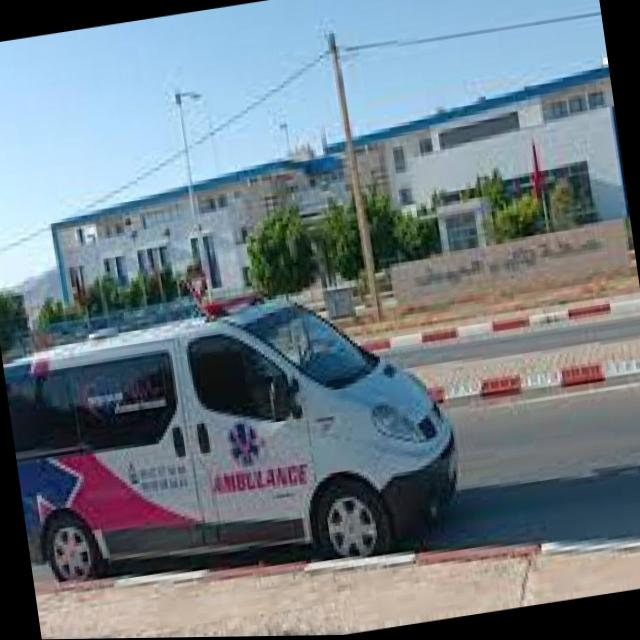ambulance: (0, 234, 478, 628)
